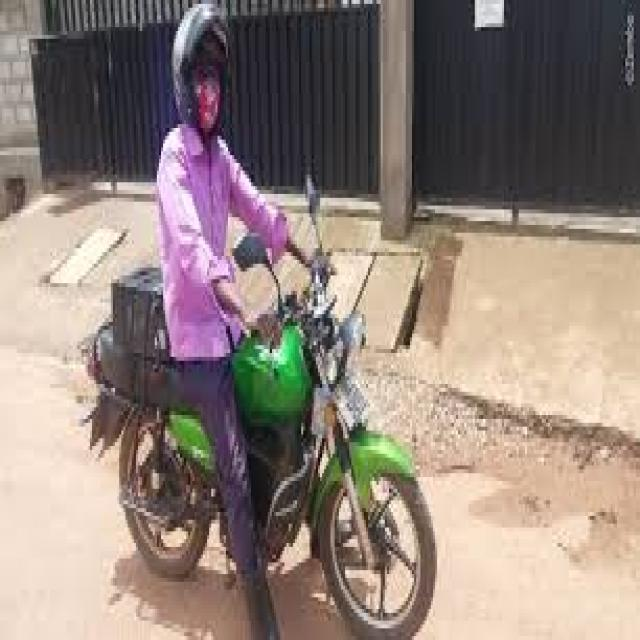bodaboda: (51, 153, 482, 640)
